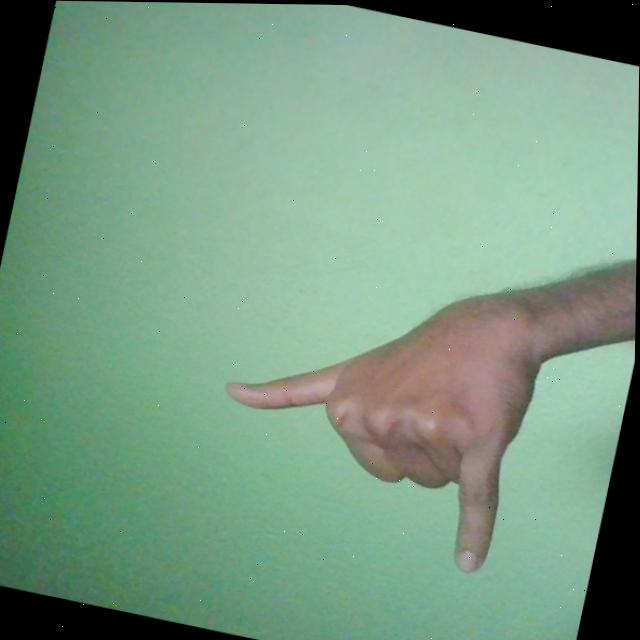Call Me: (200, 230, 556, 576)
